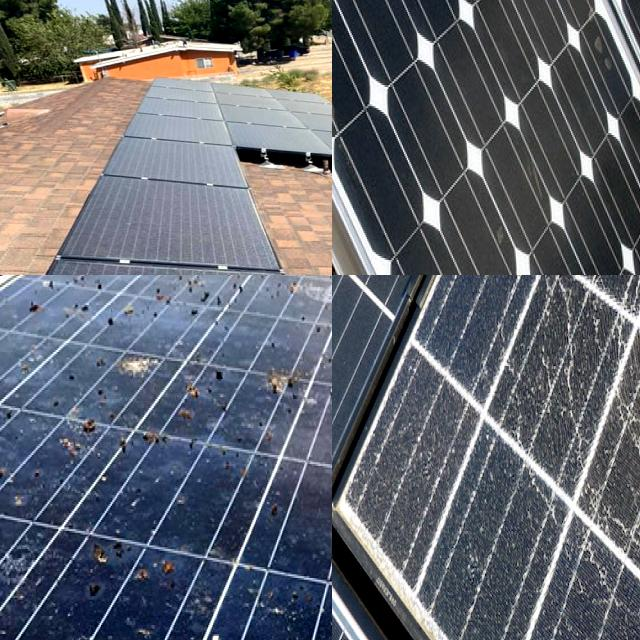bird: (88, 530, 136, 628), (251, 577, 323, 640), (78, 403, 133, 459), (0, 454, 49, 513), (260, 357, 307, 415), (25, 275, 69, 326), (190, 290, 247, 326), (289, 275, 332, 314), (157, 539, 184, 593), (124, 346, 166, 380), (162, 625, 228, 640), (157, 277, 179, 320), (101, 306, 136, 324), (156, 275, 186, 295), (178, 398, 196, 427)
crack: (332, 0, 640, 275), (332, 0, 541, 275)
dust: (216, 94, 332, 147), (115, 172, 181, 236), (190, 196, 248, 257), (147, 86, 204, 140), (120, 146, 218, 176), (63, 264, 155, 275)
